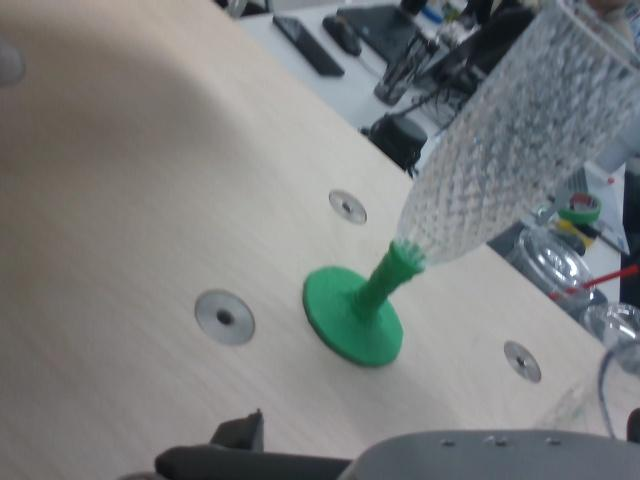green_cup: (302, 239, 423, 369)
